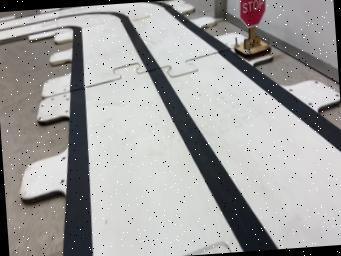stop: (233, 0, 270, 59), (233, 0, 270, 59)
street: (58, 2, 341, 256), (58, 2, 341, 256)
